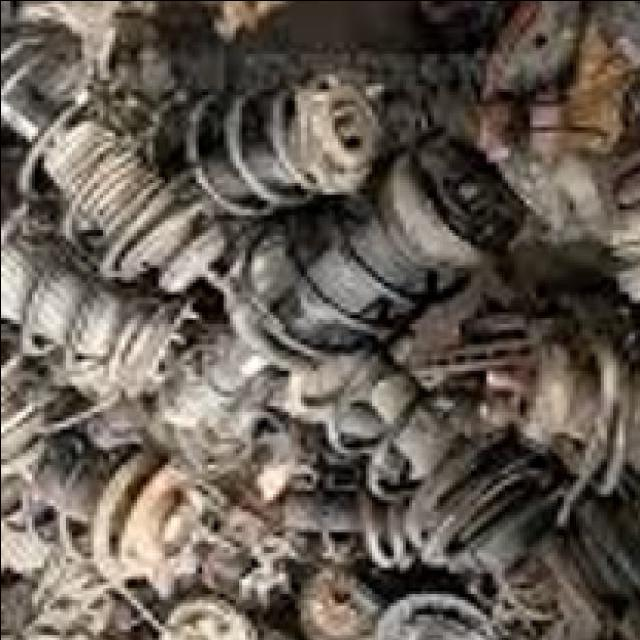shock absorber: (150, 125, 531, 429), (286, 323, 578, 582), (3, 3, 225, 293)
